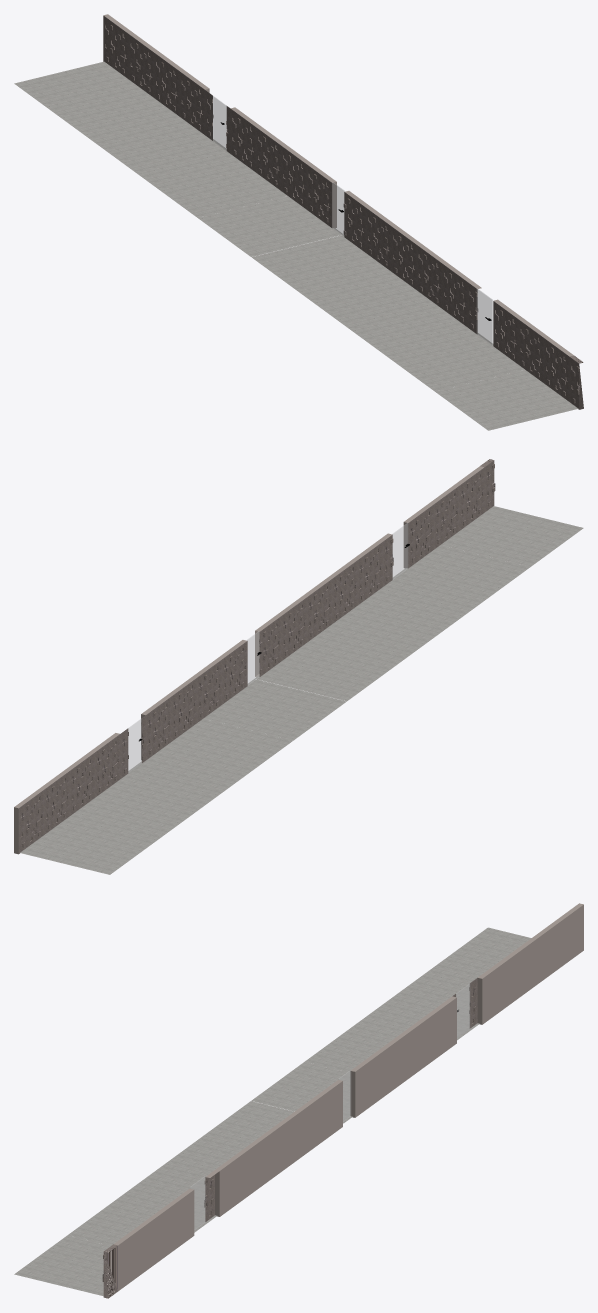
File: OldBoy 1.fbx
3 renders of one model, top to bottom at view 1: azimuth 30°, elevation 25°; view 2: azimuth 150°, elevation 25°; view 3: azimuth 330°, elevation 25°, orthographic.
Parts seen in each view (by area): view 1: Concrete flor.003, Concrete flor.008, Contrete Wall.019, Contrete Wall.009, Cube.002, Cube, Cube.001; view 2: Concrete flor.003, Concrete flor.008, Contrete Wall.019, Contrete Wall.009, Cube.002, Cube, Cube.001; view 3: Concrete flor.008, Contrete Wall.019, Concrete flor.003, Contrete Wall.009, Cube, Cube.002.
Part boxes in pixels (box(x1,y1,x2,y2)): Concrete flor.003: box(14, 61, 343, 256); Concrete flor.008: box(251, 235, 578, 430); Contrete Wall.019: box(343, 191, 583, 409); Contrete Wall.009: box(103, 14, 336, 228); Cube.002: box(476, 288, 492, 345); Cube: box(213, 96, 226, 150); Cube.001: box(332, 182, 344, 236); Concrete flor.003: box(20, 679, 346, 874); Concrete flor.008: box(255, 506, 583, 701); Contrete Wall.019: box(255, 459, 495, 676); Contrete Wall.009: box(14, 640, 247, 854); Cube.002: box(392, 523, 409, 579); Cube: box(128, 718, 142, 772); Cube.001: box(247, 631, 261, 685); Concrete flor.008: box(14, 1101, 293, 1296); Contrete Wall.019: box(102, 1079, 342, 1298); Concrete flor.003: box(251, 927, 531, 1123); Contrete Wall.009: box(350, 903, 583, 1117); Cube: box(456, 984, 470, 1037); Cube.002: box(189, 1176, 205, 1229).
Size of the model in its own units: 42.3 by 19.93 by 367.
